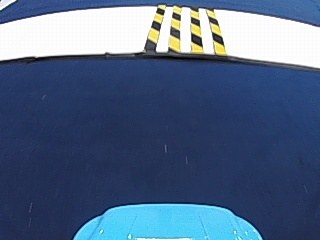bump: (141, 5, 226, 54)
